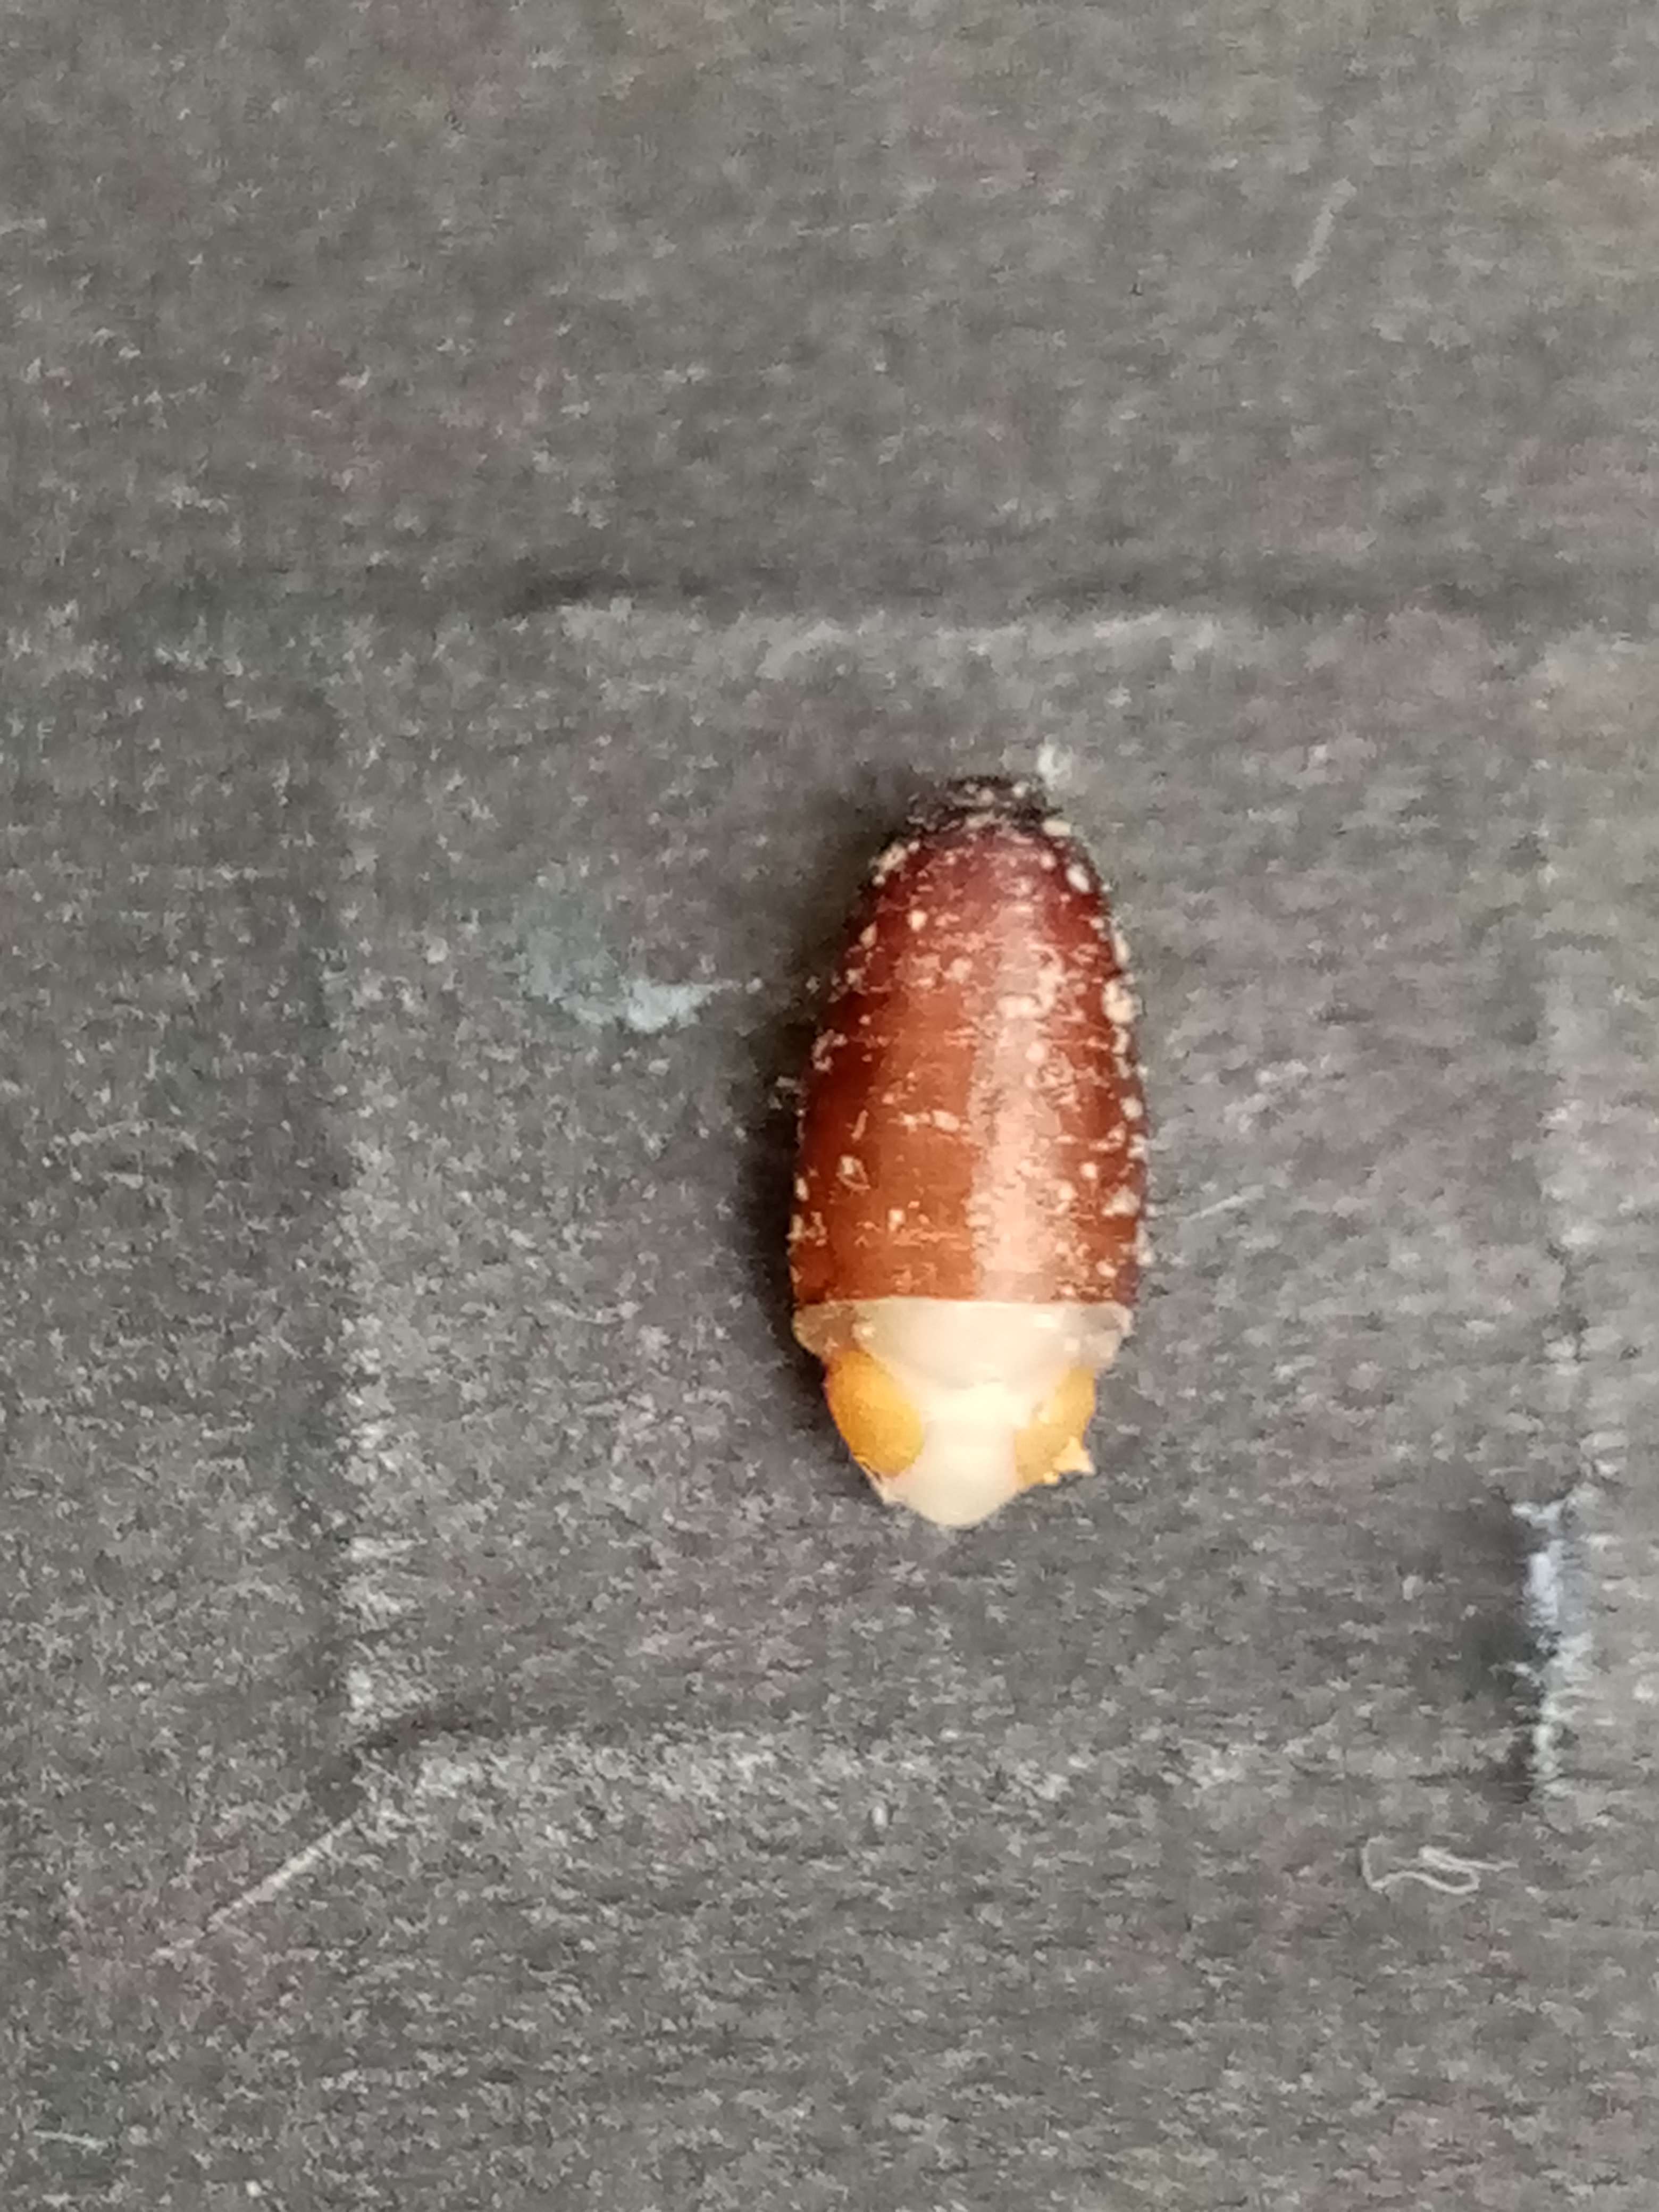pupa: (824, 1339, 1096, 1536)
